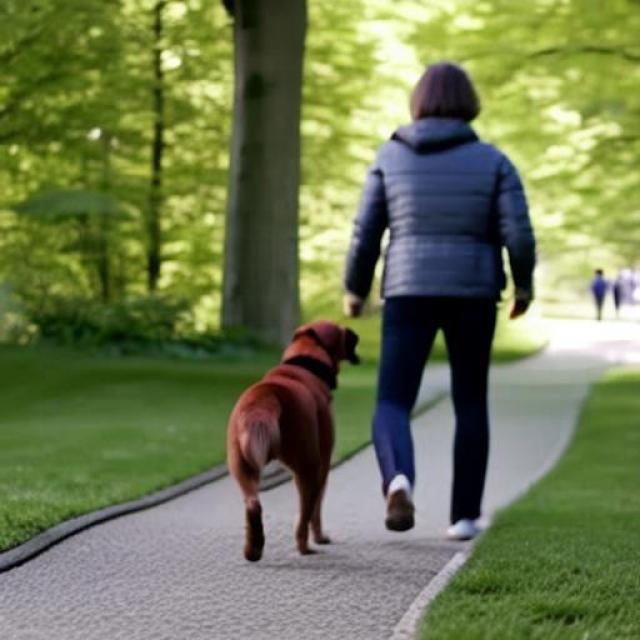Unleashed_Dog: (224, 320, 498, 562)
